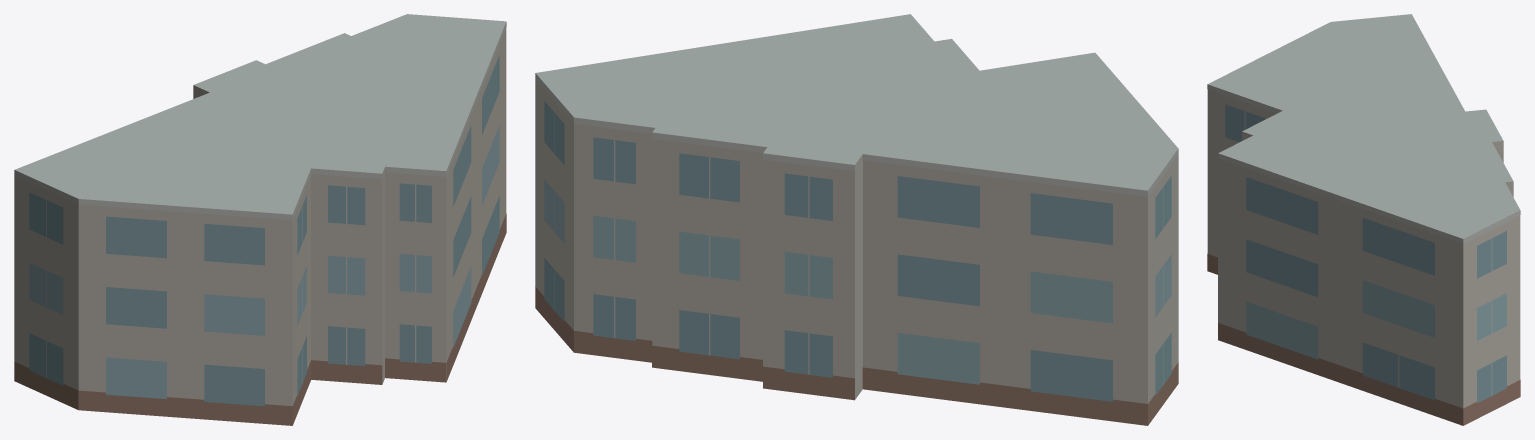
Rendered from survey-upis-32520969.glb.
3 renders of one model, left to right at view 1: azimuth 30°, elevation 25°; view 2: azimuth 150°, elevation 25°; view 3: azimuth 270°, elevation 25°, orthographic. The views are drawn at different scales.
Parts seen in each view (by area): view 1: survey-upis-32520969.tmp; view 2: survey-upis-32520969.tmp; view 3: survey-upis-32520969.tmp.
Part boxes in pixels (x1,y1,x2,y2): survey-upis-32520969.tmp: (14, 14, 506, 425); survey-upis-32520969.tmp: (535, 14, 1178, 425); survey-upis-32520969.tmp: (1207, 14, 1520, 425).
Bounding box in the file's own units: 23.63 × 9.15 × 13.9.
